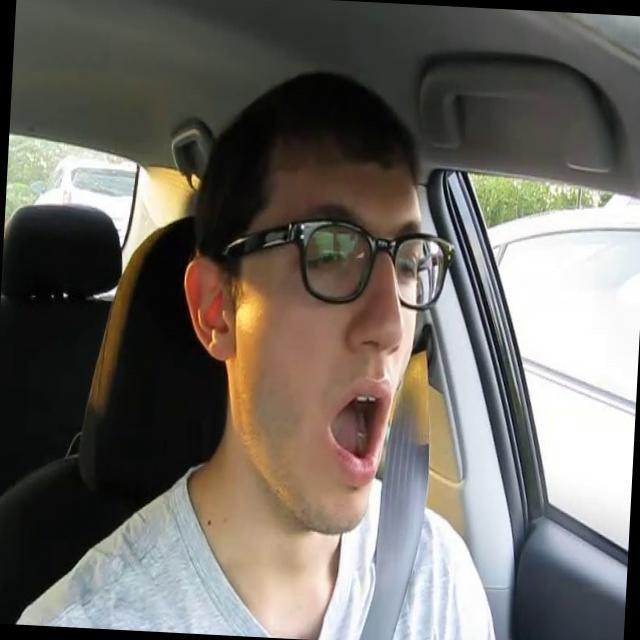open-mouth: (325, 376, 392, 479)
